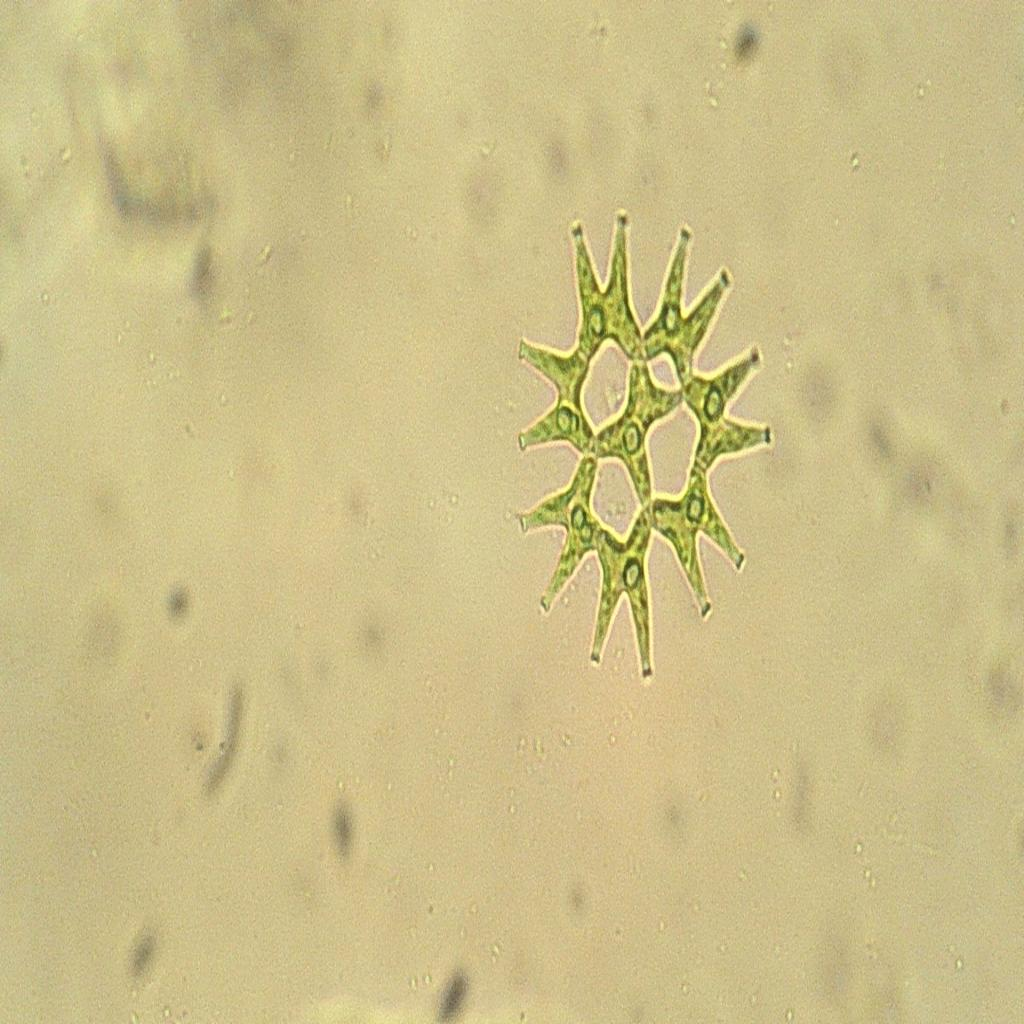Pediastrum_75T: (497, 192, 793, 697)
